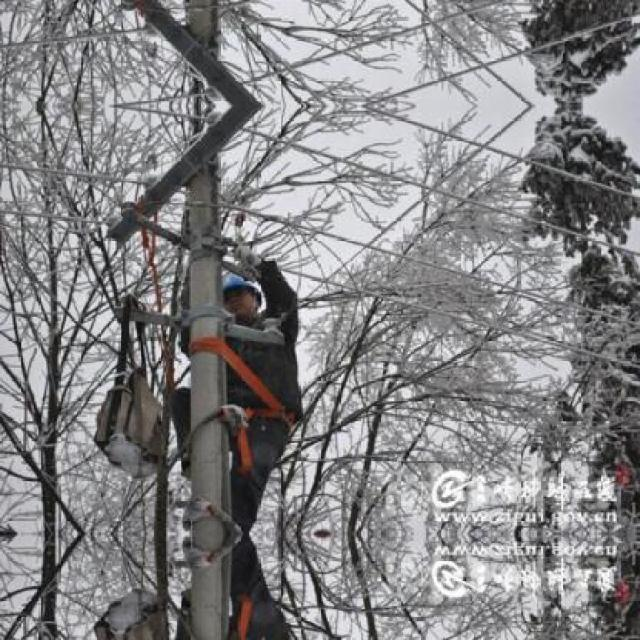helmet: (218, 271, 262, 320)
